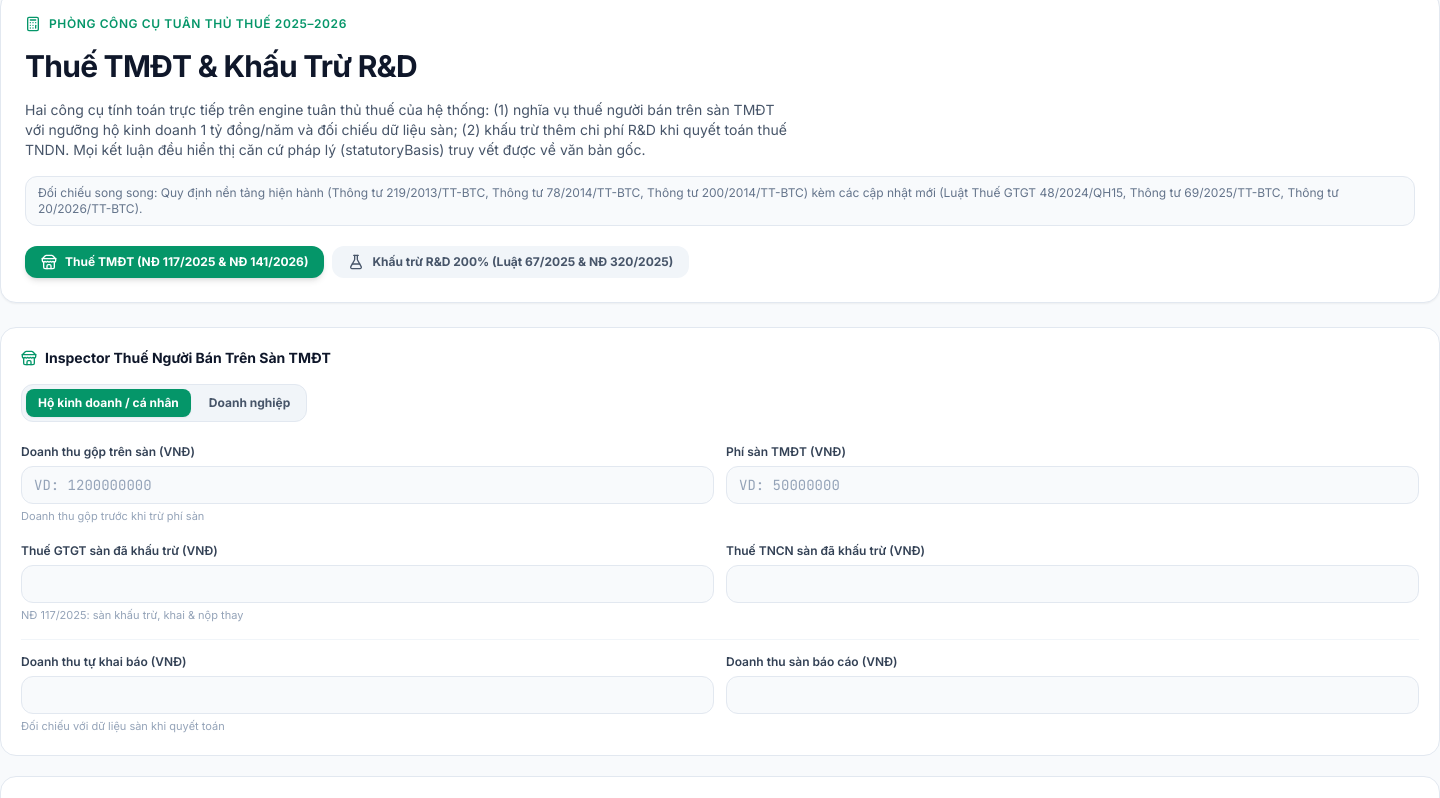
TAX COMPLIANCE TOOLS UI WRAPPER › flags the 1B household threshold with ND 141/2026 statutory basis, and shows the reconciliation TODO-verify note
Type "1200000000" into the 1st number field at (368, 485), box [21,466,714,504]
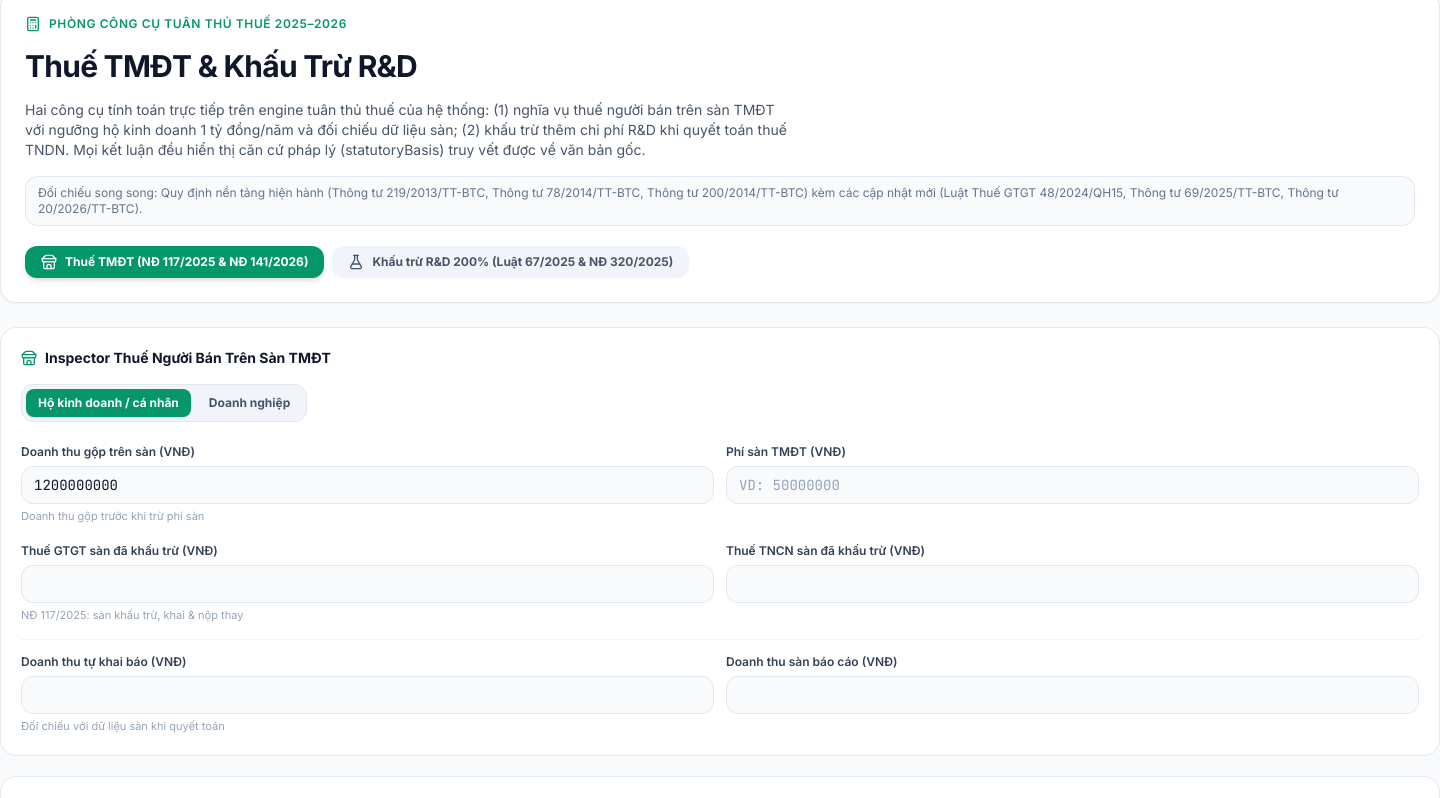
Type "1100000000" into the 5th number field at (368, 695), box [21,676,714,714]
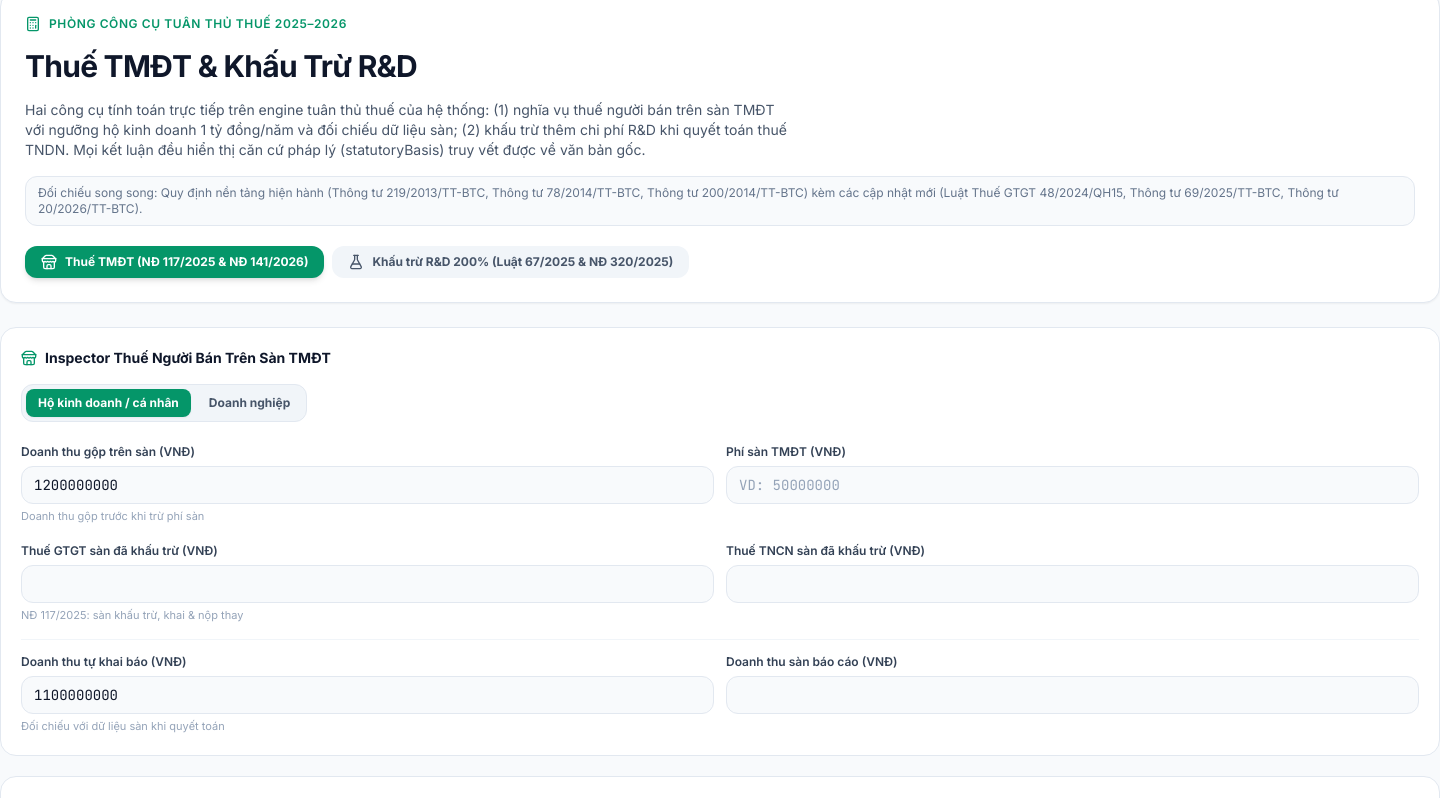
Type "1000000000" into the number field labelled "Doanh thu sàn báo cáo (VNĐ)" at (1072, 695), box [726,676,1419,714]
(page scrolled)
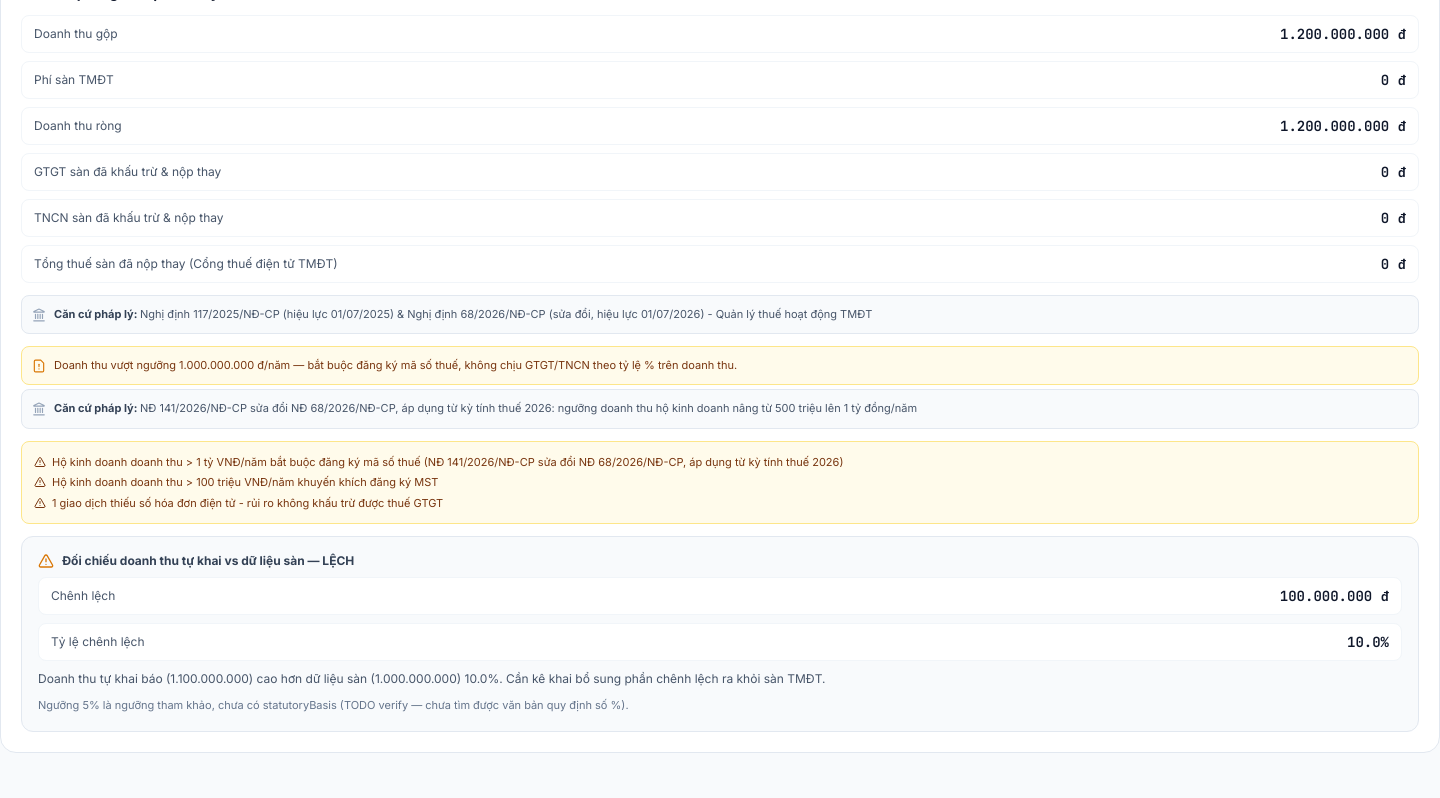
Expected: the element with test id "ecom-reconciliation" shows "LỆCH", [322,553,354,568]
Expected: the element with test id "ecom-reconciliation" shows "ngưỡng tham khảo, chưa có statutoryBasis", [38,698,628,712]
Expected: the text with test id "ecom-variance-percent" reads "10.0%", [1347,633,1389,651]
